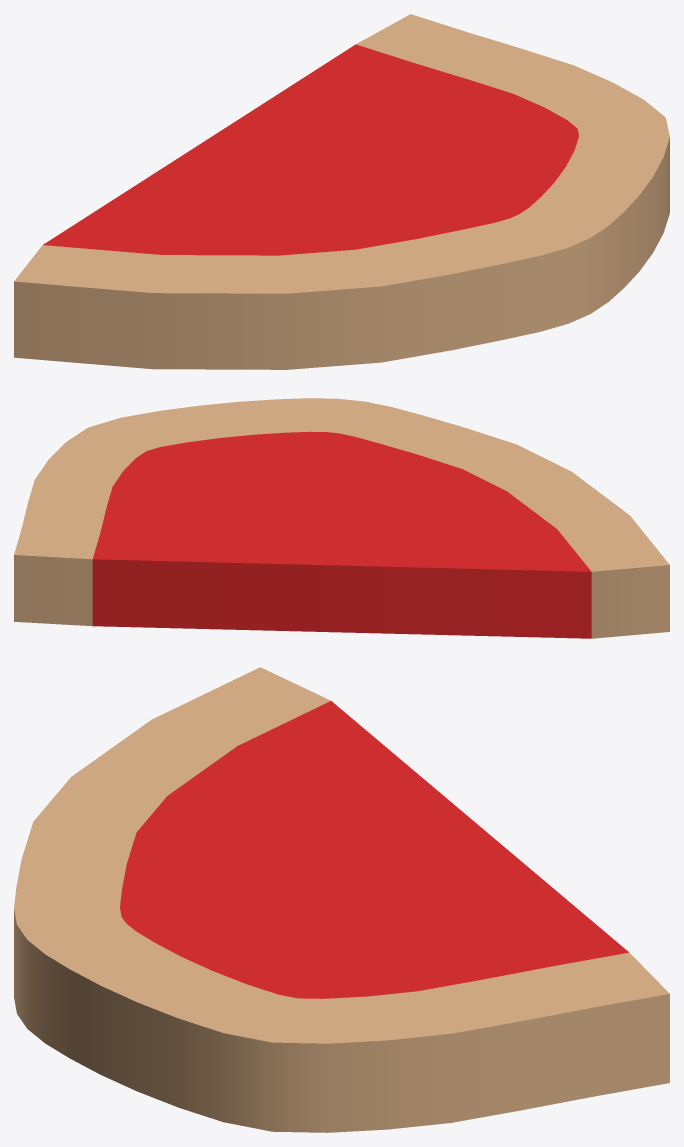
File: Et çiğ part 1.fbx
3 views of the same model, one above another, from view 1: azimuth 30°, elevation 25°; view 2: azimuth 150°, elevation 25°; view 3: azimuth 270°, elevation 25° (orthographic). The views are drawn at different scales.
Parts seen in each view (by area): view 1: Cylinder.001; view 2: Cylinder.001; view 3: Cylinder.001.
Part boxes in pixels (box(x1,y1,x2,y2)): Cylinder.001: box(14, 14, 669, 369); Cylinder.001: box(14, 398, 669, 638); Cylinder.001: box(14, 667, 669, 1132).
Bounding box in the file's own units: 12.65 × 1.4 × 9.31.
